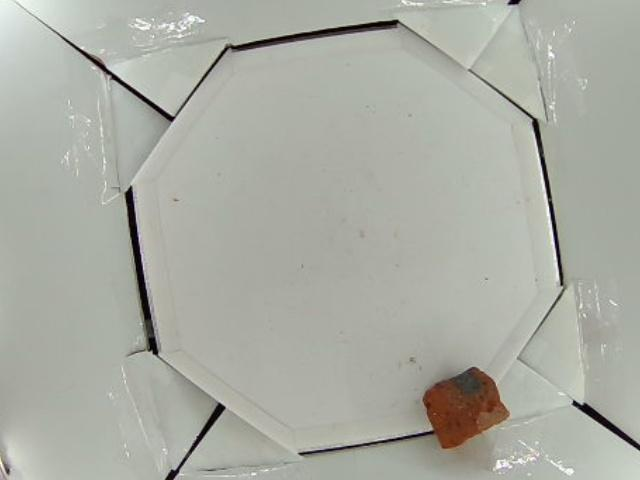Brisk: (423, 365, 509, 448)
